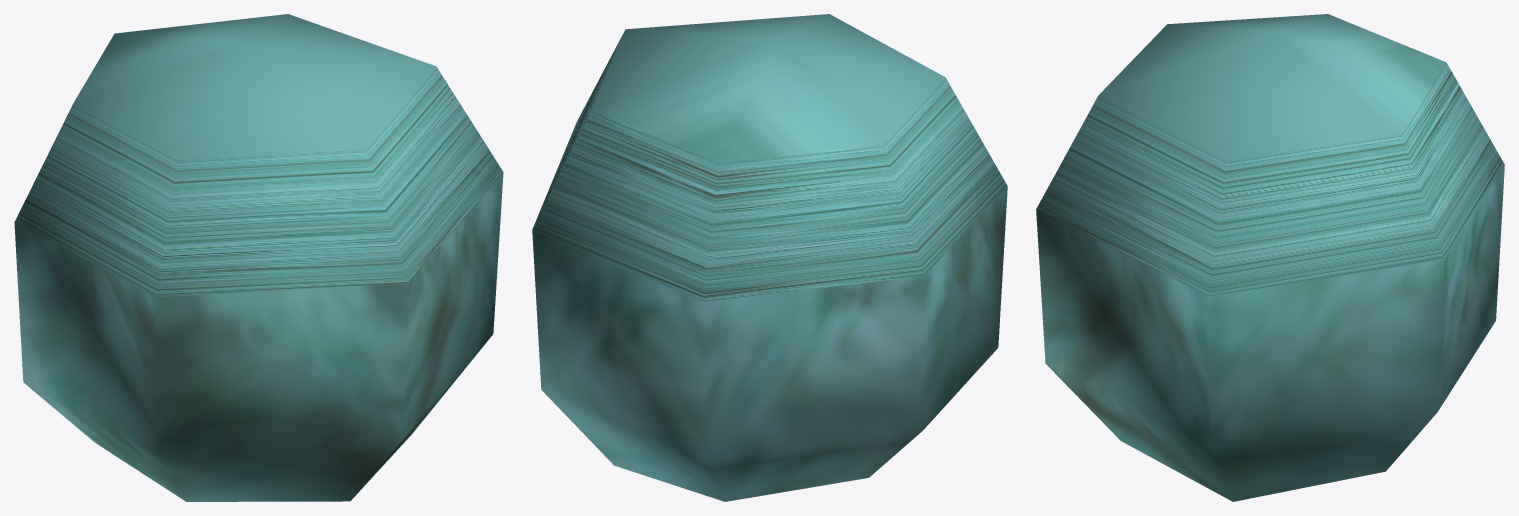
Rendered from EKH_GROTTO_PS_GR_ROCK1102930.fbx.
3 views of the same model, side by side, from view 1: azimuth 30°, elevation 25°; view 2: azimuth 150°, elevation 25°; view 3: azimuth 270°, elevation 25° (orthographic). The views are drawn at different scales.
Parts seen in each view (by area): view 1: EKH_GROTTO_PS_GR_ROCK1102930; view 2: EKH_GROTTO_PS_GR_ROCK1102930; view 3: EKH_GROTTO_PS_GR_ROCK1102930.
Boxes of the visible parts, x1=… form: EKH_GROTTO_PS_GR_ROCK1102930: x1=14, y1=14, x2=503, y2=501; EKH_GROTTO_PS_GR_ROCK1102930: x1=532, y1=14, x2=1007, y2=501; EKH_GROTTO_PS_GR_ROCK1102930: x1=1036, y1=14, x2=1504, y2=501.
Size of the model in its own units: 12000 by 11329 by 12090.
1 material, 1 textured.
